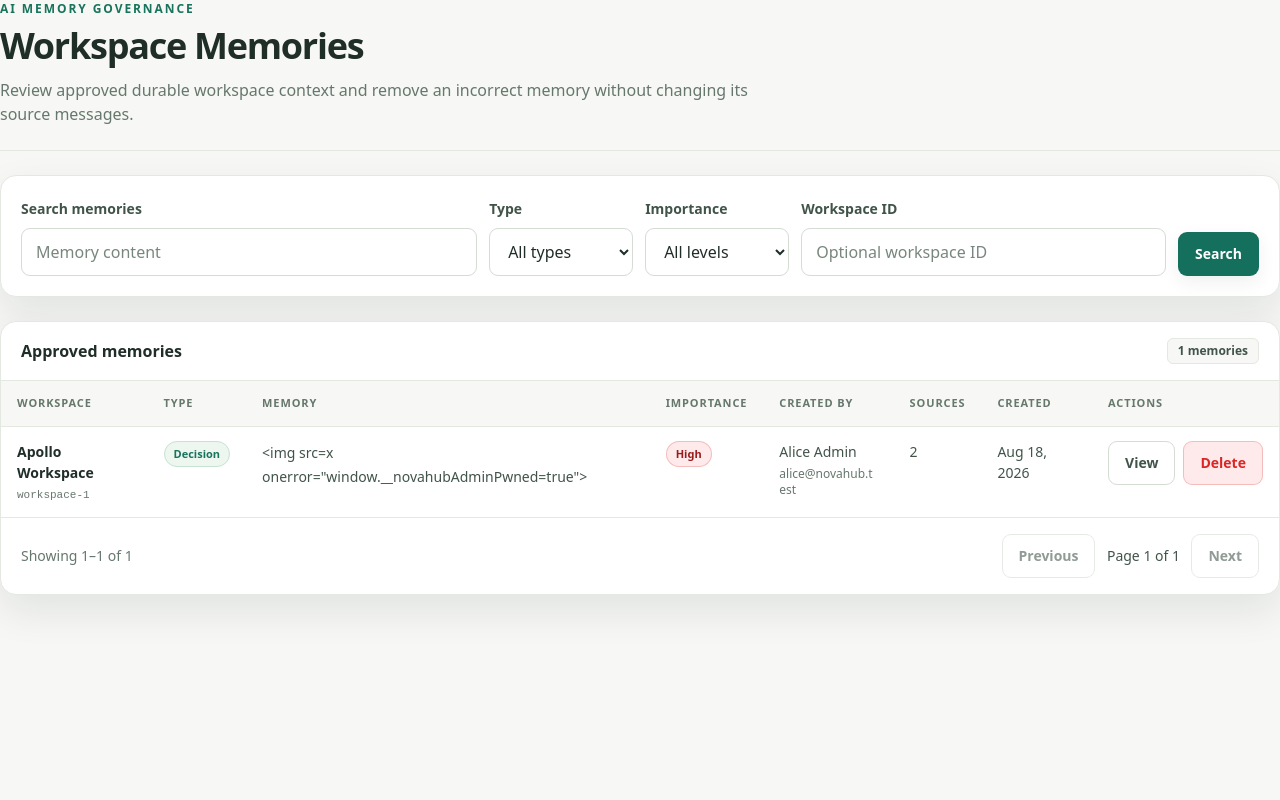
admin workspace memories › renders content as inert text, confirms deletion, and removes the row
Check: the text "<img src=x onerror=\"window.__novahubAdminPwned=true\">" is shown, box [262,440,634,488]
Check: the text "workspace-1" is shown, box [17,488,90,500]
Click the button with aria-label "Delete Decision memory" at (1223, 462), box [1183,440,1263,484]
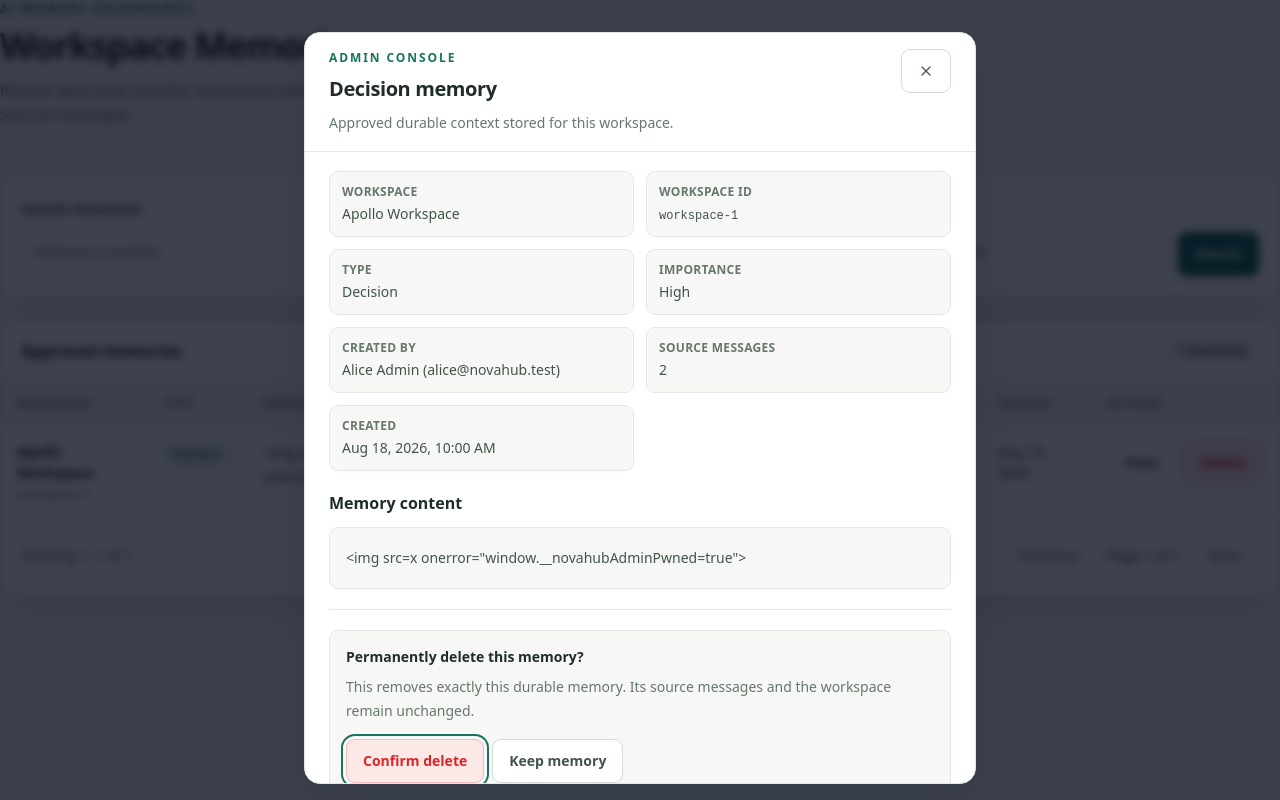
Check: the element named "Confirm memory deletion" is shown, box [329,630,951,783]
Click the button "Confirm delete" at (415, 761), box [346,739,484,783]
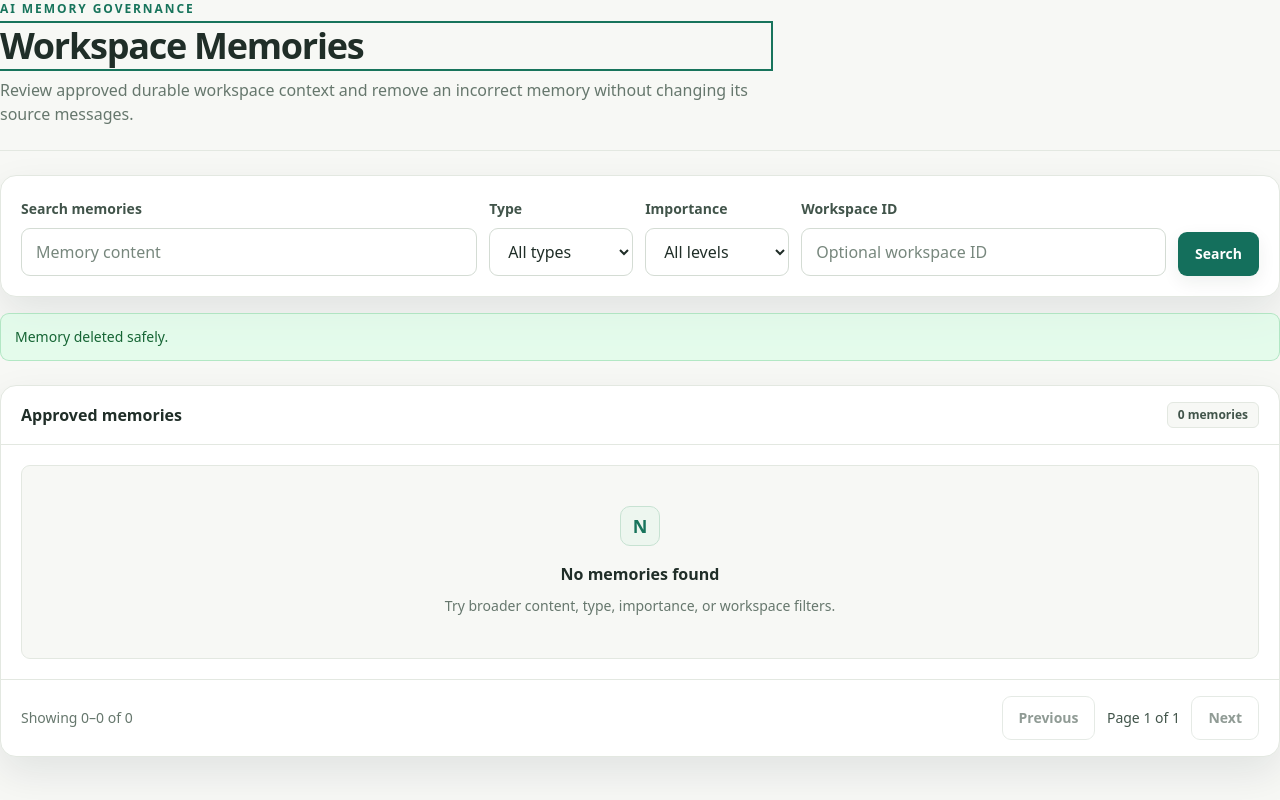
Check: the text "Memory deleted safely." is shown, box [0,313,1279,361]
Check: the text "<img src=x onerror=\"window.__novahubAdminPwned=true\">" is gone
